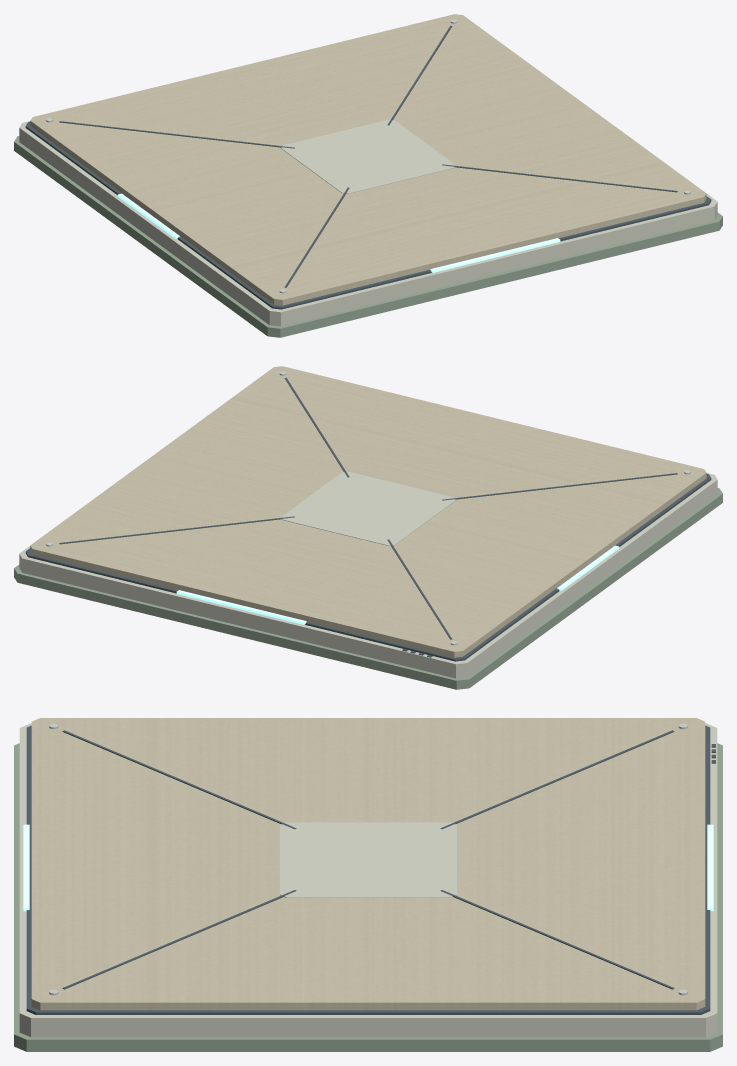
File: m01-metal-full.glb
3 renders of one model, top to bottom at view 1: azimuth 30°, elevation 25°; view 2: azimuth 150°, elevation 25°; view 3: azimuth 270°, elevation 25°, orthographic. The views are drawn at different scales.
Visible parts, largest first — view 1: full/003, full/001, full/000, full/004, full/002, full/014; view 2: full/003, full/001, full/000, full/004, full/002, full/013; view 3: full/003, full/001, full/000, full/004, full/002, full/007, full/008, full/005, full/006, full/013, full/014.
Boxes of the visible parts, bbox=[...] form: full/003: bbox=[30, 14, 706, 305]; full/001: bbox=[19, 121, 717, 326]; full/000: bbox=[14, 136, 722, 337]; full/004: bbox=[281, 119, 455, 193]; full/002: bbox=[25, 121, 711, 309]; full/014: bbox=[430, 238, 560, 272]; full/003: bbox=[30, 366, 706, 657]; full/001: bbox=[19, 473, 717, 678]; full/000: bbox=[14, 488, 722, 689]; full/004: bbox=[281, 471, 455, 545]; full/002: bbox=[25, 473, 711, 661]; full/013: bbox=[176, 590, 306, 624]; full/003: bbox=[31, 718, 705, 1010]; full/001: bbox=[19, 723, 717, 1037]; full/000: bbox=[14, 743, 722, 1051]; full/004: bbox=[280, 822, 456, 897]; full/002: bbox=[26, 725, 710, 1014]; full/007: bbox=[440, 890, 674, 989]; full/008: bbox=[62, 890, 296, 989]; full/005: bbox=[440, 730, 674, 829]; full/006: bbox=[62, 730, 296, 829]; full/013: bbox=[707, 824, 713, 911]; full/014: bbox=[23, 824, 29, 911].
Size of the model in its own units: 1 by 0.0678 by 1.
6 materials, 1 textured.
